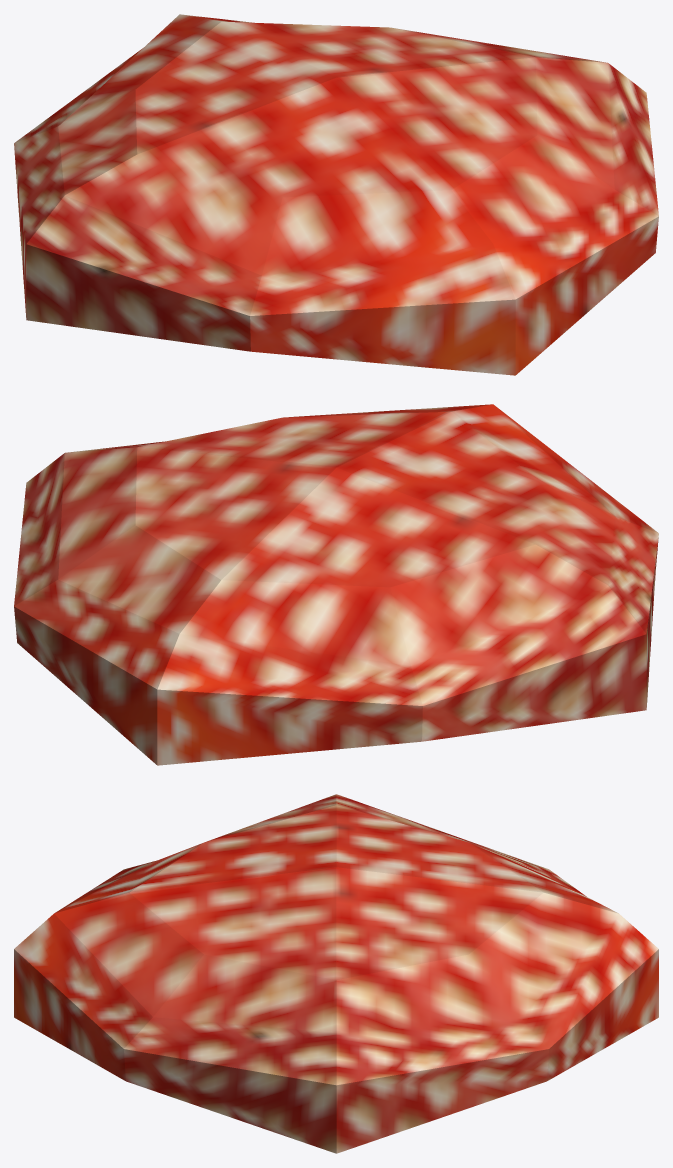
File: Mushroom_Cap_A1.fbx
3 views of the same model, one above another, from view 1: azimuth 30°, elevation 25°; view 2: azimuth 150°, elevation 25°; view 3: azimuth 270°, elevation 25° (orthographic). The views are drawn at different scales.
Parts seen in each view (by area): view 1: Mushroom_Cap_A1; view 2: Mushroom_Cap_A1; view 3: Mushroom_Cap_A1.
Part boxes in pixels (box(x1,y1,x2,y2)): Mushroom_Cap_A1: box(14, 14, 658, 375); Mushroom_Cap_A1: box(14, 404, 658, 765); Mushroom_Cap_A1: box(14, 794, 658, 1153).
Size of the model in its own units: 2 by 0.7852 by 2.
